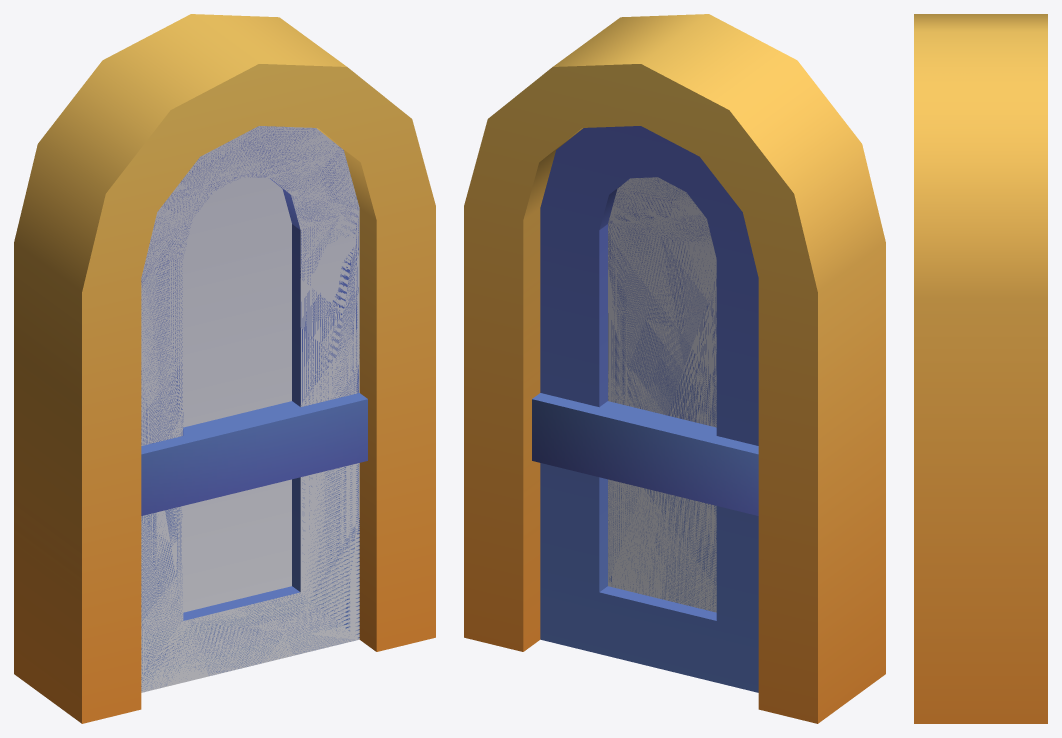
Rendered from door-rotate.glb.
3 views of the same model, side by side, from view 1: azimuth 30°, elevation 25°; view 2: azimuth 150°, elevation 25°; view 3: azimuth 270°, elevation 25° (orthographic).
Parts seen in each view (by area): view 1: door-rotate, door; view 2: door-rotate, door; view 3: door-rotate.
Boxes of the visible parts, <box> form: door-rotate: <box>14,14,435,723</box>; door: <box>141,126,367,692</box>; door-rotate: <box>464,14,885,723</box>; door: <box>532,126,758,692</box>; door-rotate: <box>914,14,1047,723</box>.
Size of the model in its own units: 0.6 by 1 by 0.2.
Materials: 1 (1 with a texture image).
